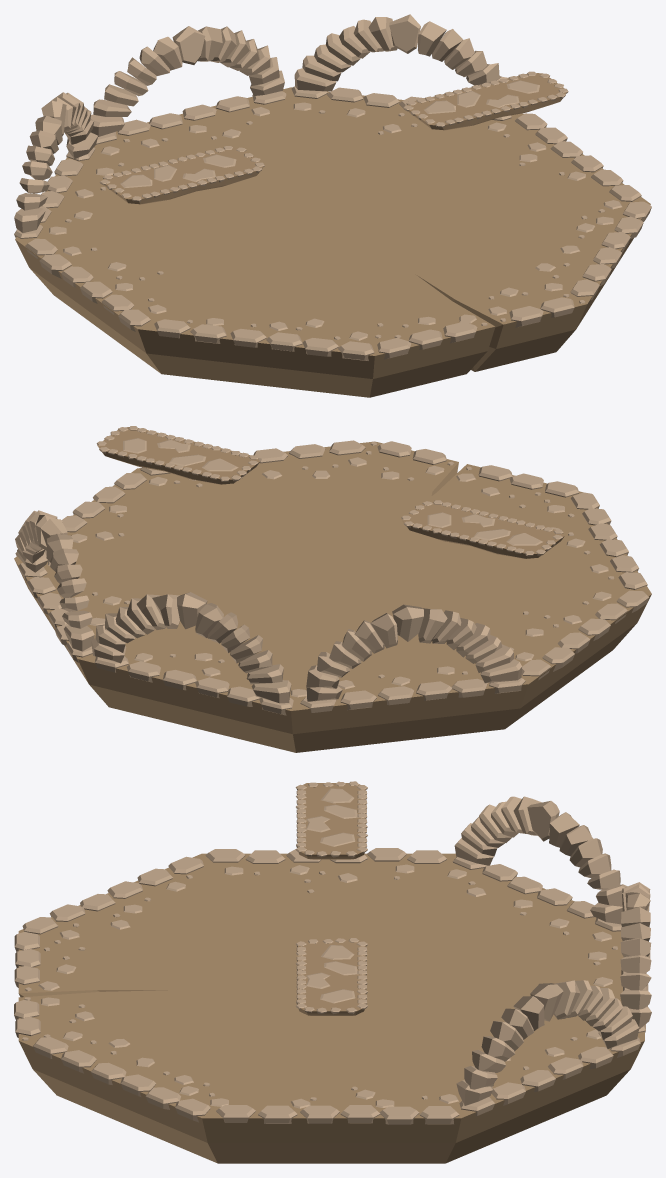
File: Stage.fbx
The picture shows the model from 3 angles, top to bottom: view 1: azimuth 30°, elevation 25°; view 2: azimuth 150°, elevation 25°; view 3: azimuth 270°, elevation 25°; orthographic projection. The views are drawn at different scales.
Visible parts, largest first — view 1: polySurface124; view 2: polySurface124; view 3: polySurface124.
Part boxes in pixels (x1,y1,x2,y2): polySurface124: (14, 14, 651, 397); polySurface124: (14, 426, 651, 752); polySurface124: (14, 781, 651, 1163).
Bounding box in the file's own units: 18.81 × 5.05 × 18.82.
